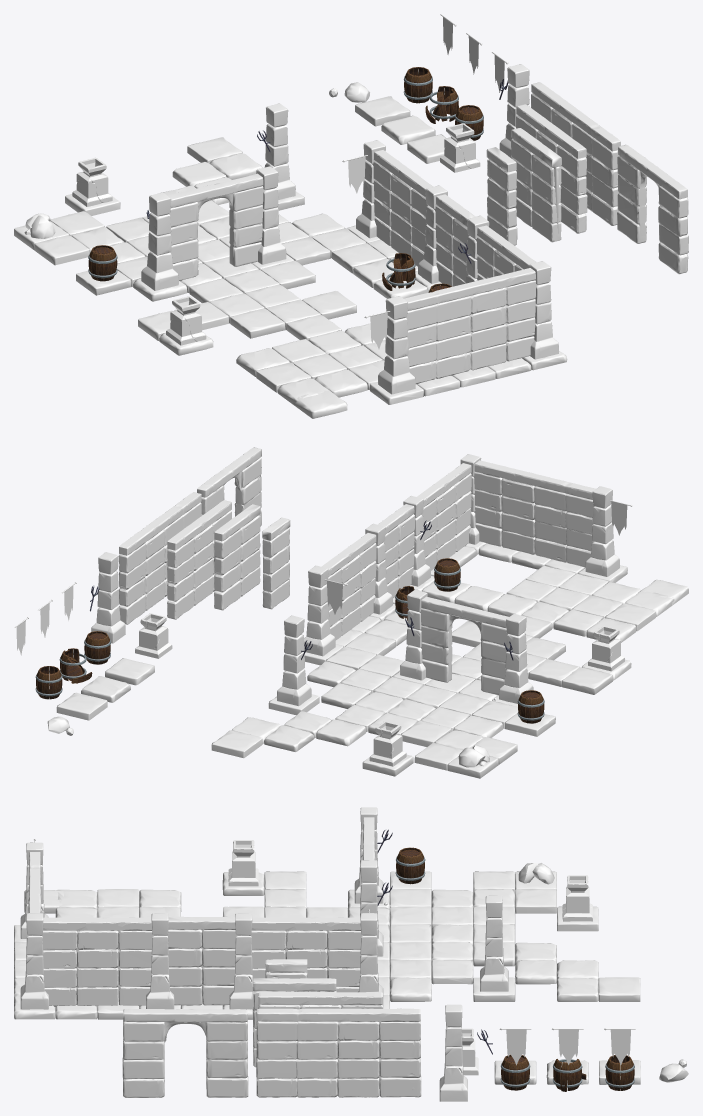
Rendered from Modular_Dungeon_Kit.fbx.
3 renders of one model, top to bottom at view 1: azimuth 30°, elevation 25°; view 2: azimuth 150°, elevation 25°; view 3: azimuth 270°, elevation 25°, orthographic. The views are drawn at different scales.
Parts seen in each view (by area): view 1: Wall3_02, Wall4_02, Wall4_01, Wall3_01, Wall2_02, Wall_01, Wall2_01, Wall_03, Wall_01_1, Pillar_02, Pillar_09, Wall2_03 (+53 smaller); view 2: Wall3_02, Wall3_01, Wall4_02, Wall2_01, Wall2_03, Wall_01, Wall2_02, Wall4_01, Wall_03, Wall_01_1, Pillar_06, Pillar_09 (+66 smaller); view 3: Wall3_01, Wall2_03, Wall4_01, Wall2_02, Wall_03, Wall2_01, Pillar_01, Pillar_06, Pillar_08, Pillar_07, Pillar_05, Wall_01 (+54 smaller).
Boxes of the visible parts, left/top/right/bottom form: Wall3_02: left=404, top=268, right=538, bottom=383; Wall4_02: left=168, top=173, right=266, bottom=280; Wall4_01: left=617, top=144, right=688, bottom=274; Wall3_01: left=531, top=82, right=620, bottom=225; Wall2_02: left=372, top=150, right=433, bottom=266; Wall_01: left=511, top=128, right=561, bottom=242; Wall2_01: left=516, top=104, right=587, bottom=233; Wall_03: left=434, top=194, right=475, bottom=286; Wall_01_1: left=486, top=147, right=517, bottom=245; Pillar_02: left=141, top=192, right=178, bottom=290; Pillar_09: left=378, top=296, right=415, bottom=394; Wall2_03: left=475, top=225, right=536, bottom=280; Wall3_02: left=472, top=460, right=595, bottom=567; Wall3_01: left=119, top=492, right=201, bottom=624; Wall4_02: left=419, top=596, right=508, bottom=695; Wall2_01: left=167, top=500, right=231, bottom=619; Wall2_03: left=417, top=463, right=472, bottom=570; Wall_01: left=214, top=504, right=260, bottom=610; Wall2_02: left=321, top=533, right=376, bottom=640; Wall4_01: left=197, top=447, right=261, bottom=526; Wall_03: left=378, top=504, right=415, bottom=597; Wall_01_1: left=262, top=517, right=290, bottom=609; Pillar_06: left=277, top=615, right=311, bottom=706; Pillar_09: left=585, top=486, right=619, bottom=576; Wall3_01: left=256, top=1008, right=421, bottom=1097; Wall2_03: left=40, top=917, right=153, bottom=1006; Wall4_01: left=122, top=1009, right=248, bottom=1097; Wall2_02: left=249, top=917, right=362, bottom=992; Wall_03: left=167, top=916, right=236, bottom=1005; Wall2_01: left=258, top=992, right=382, bottom=1009; Pillar_01: left=439, top=1004, right=467, bottom=1101; Pillar_06: left=480, top=895, right=508, bottom=991; Pillar_08: left=20, top=913, right=48, bottom=1009; Pillar_07: left=146, top=913, right=174, bottom=1009; Pillar_05: left=229, top=913, right=253, bottom=1009; Wall_01: left=252, top=978, right=336, bottom=1067.
Bounding box in the file's own units: 2612 × 515 × 3232.
14 materials, 2 textured.
